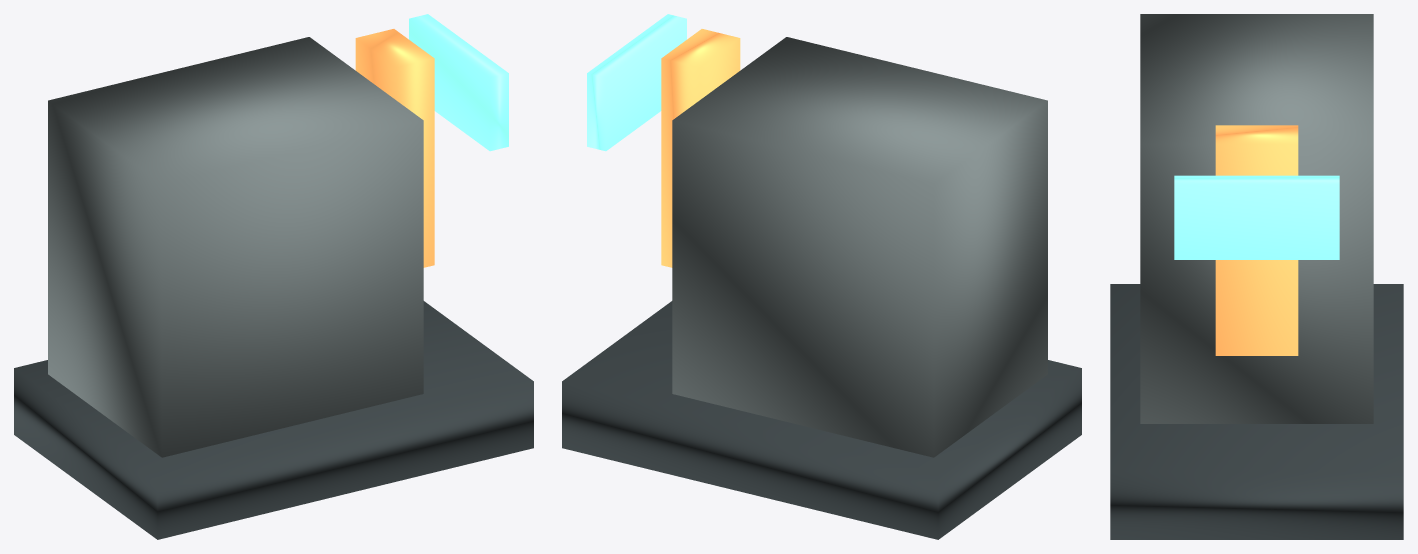
The model's file is jovian-harvester-storm-bus-isolator-lod2.glb.
The picture shows the model from 3 angles, left to right: view 1: azimuth 30°, elevation 25°; view 2: azimuth 150°, elevation 25°; view 3: azimuth 270°, elevation 25°; orthographic projection. The views are drawn at different scales.
Visible parts, largest first — view 1: jovian-harvester-storm-bus-isolator-bank, jovian-harvester-storm-bus-isolator-base, jovian-harvester-interactable-status, jovian-harvester-storm-bus-isolator-knife; view 2: jovian-harvester-storm-bus-isolator-bank, jovian-harvester-storm-bus-isolator-base, jovian-harvester-interactable-status, jovian-harvester-storm-bus-isolator-knife; view 3: jovian-harvester-storm-bus-isolator-bank, jovian-harvester-storm-bus-isolator-base, jovian-harvester-interactable-status, jovian-harvester-storm-bus-isolator-knife.
Part boxes in pixels (x1=…): jovian-harvester-storm-bus-isolator-bank: x1=48, y1=37, x2=423, y2=457; jovian-harvester-storm-bus-isolator-base: x1=14, y1=301, x2=533, y2=539; jovian-harvester-interactable-status: x1=409, y1=14, x2=508, y2=151; jovian-harvester-storm-bus-isolator-knife: x1=355, y1=29, x2=434, y2=267; jovian-harvester-storm-bus-isolator-bank: x1=672, y1=37, x2=1047, y2=457; jovian-harvester-storm-bus-isolator-base: x1=562, y1=301, x2=1081, y2=539; jovian-harvester-interactable-status: x1=587, y1=14, x2=686, y2=151; jovian-harvester-storm-bus-isolator-knife: x1=661, y1=29, x2=740, y2=267; jovian-harvester-storm-bus-isolator-bank: x1=1140, y1=14, x2=1373, y2=423; jovian-harvester-storm-bus-isolator-base: x1=1110, y1=284, x2=1403, y2=539; jovian-harvester-interactable-status: x1=1174, y1=175, x2=1339, y2=259; jovian-harvester-storm-bus-isolator-knife: x1=1215, y1=125, x2=1298, y2=355.
Size of the model in its own units: 1.2 by 1.09 by 0.78.
